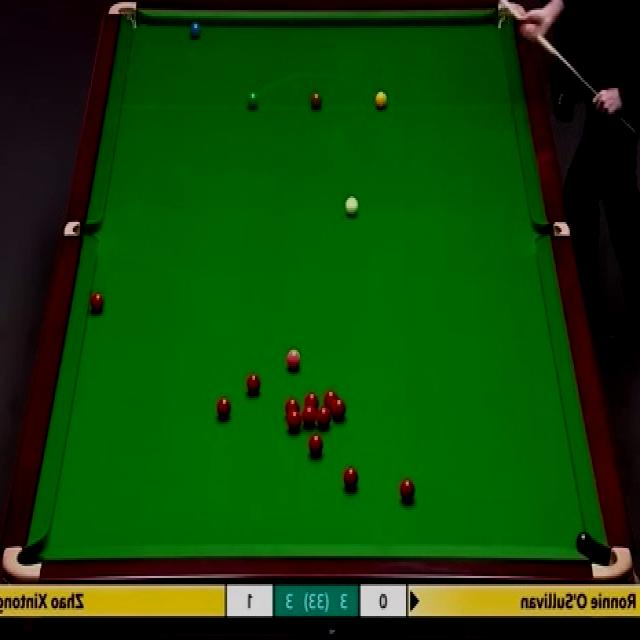pocket: (2, 544, 42, 583), (590, 544, 634, 579), (107, 2, 138, 32), (496, 0, 522, 29), (536, 221, 570, 240), (64, 222, 98, 240)
